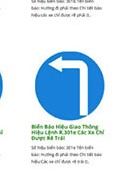Turn_left: (33, 50, 105, 122)
